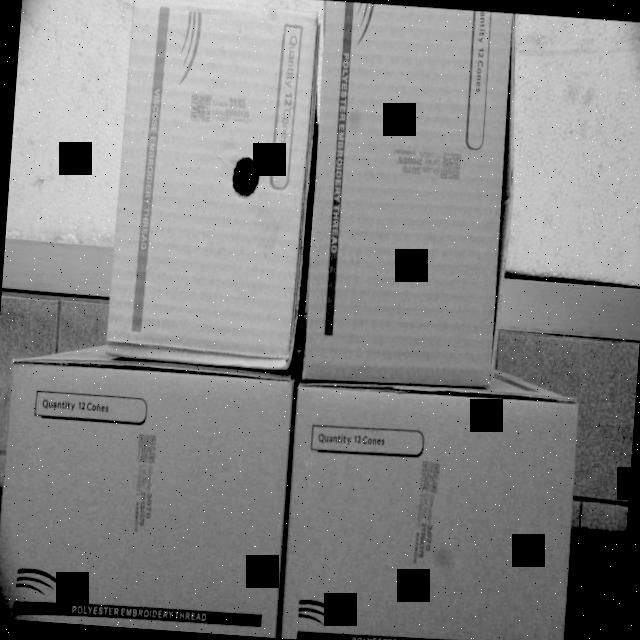box: (294, 0, 521, 395), (0, 352, 297, 637), (107, 0, 317, 375), (282, 382, 580, 640)
